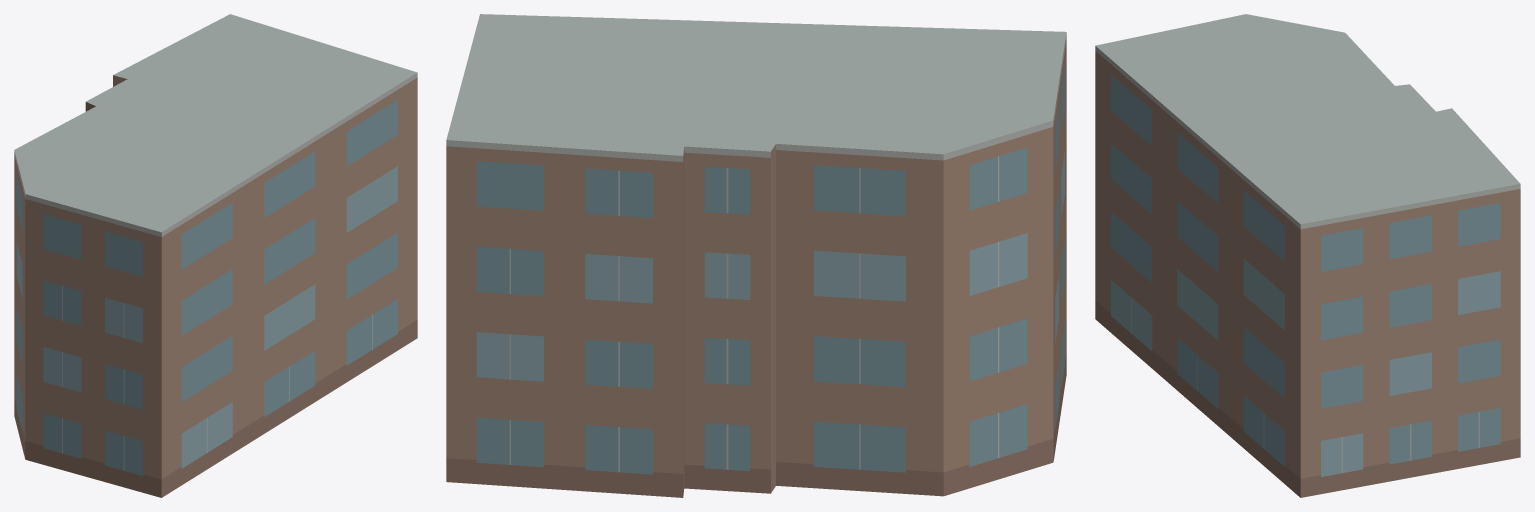
The model's file is survey-upis-32733519.glb.
3 renders of one model, left to right at view 1: azimuth 30°, elevation 25°; view 2: azimuth 150°, elevation 25°; view 3: azimuth 270°, elevation 25°, orthographic. The views are drawn at different scales.
Visible parts, largest first — view 1: survey-upis-32733519.tmp; view 2: survey-upis-32733519.tmp; view 3: survey-upis-32733519.tmp.
Part boxes in pixels (x1,y1,x2,y2): survey-upis-32733519.tmp: (14, 14, 417, 497); survey-upis-32733519.tmp: (446, 14, 1066, 497); survey-upis-32733519.tmp: (1095, 14, 1520, 497).
Bounding box in the file's own units: 22.29 × 13.5 × 19.04.
